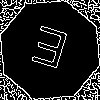E: (25, 25, 71, 79)
